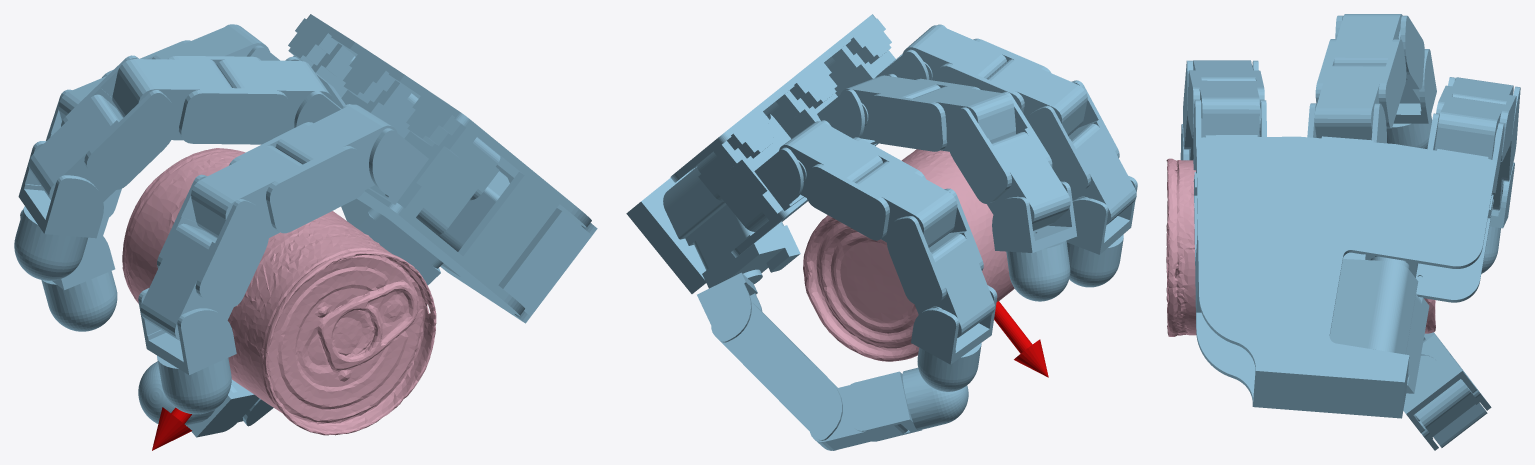
3 renders of one model, left to right at view 1: azimuth 30°, elevation 25°; view 2: azimuth 150°, elevation 25°; view 3: azimuth 270°, elevation 25°, orthographic. The views are drawn at different scales.
Visible parts, largest first — view 1: world, tomato_soup_can.stl; view 2: world, tomato_soup_can.stl; view 3: world, tomato_soup_can.stl.
Part boxes in pixels (bbox=[...]): world: bbox=[14, 14, 597, 450]; tomato_soup_can.stl: bbox=[122, 148, 436, 435]; world: bbox=[626, 14, 1137, 450]; tomato_soup_can.stl: bbox=[803, 149, 1014, 361]; world: bbox=[1180, 14, 1520, 450]; tomato_soup_can.stl: bbox=[1166, 158, 1435, 336].
Size of the model in its own units: 0.1982 by 0.156 by 0.1338.
